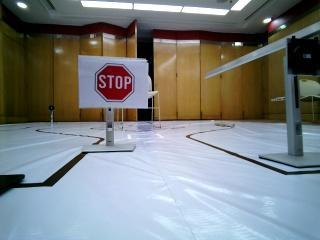stop: (86, 59, 139, 106)
